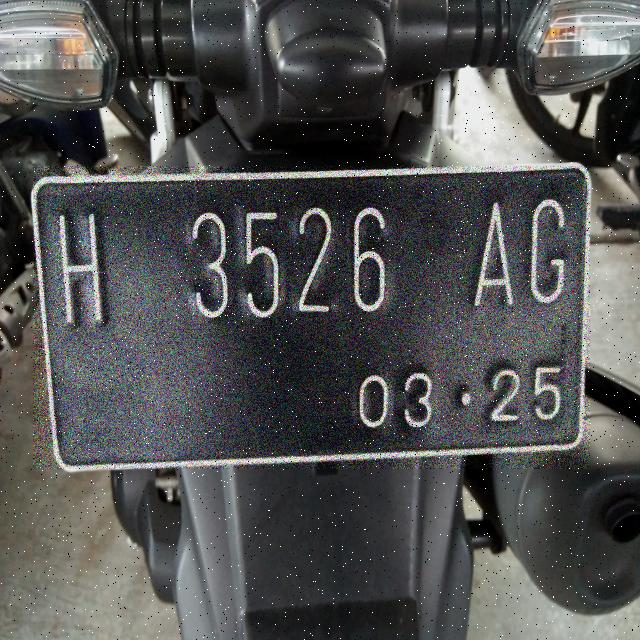plate: (34, 166, 589, 468)
